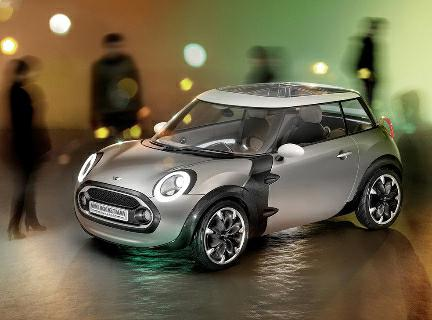MINI-ROCKETMAN: (57, 85, 398, 256)
